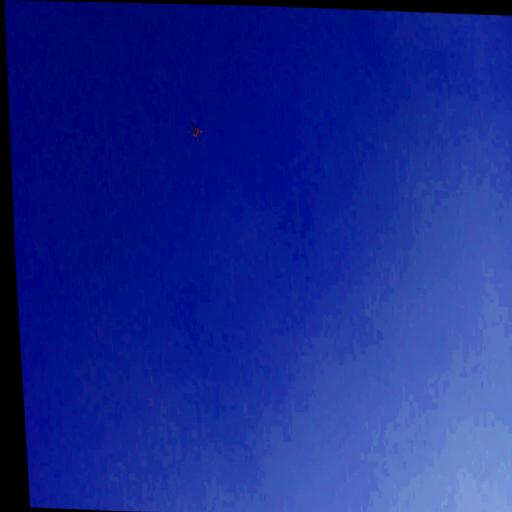drones: (187, 118, 206, 144)
